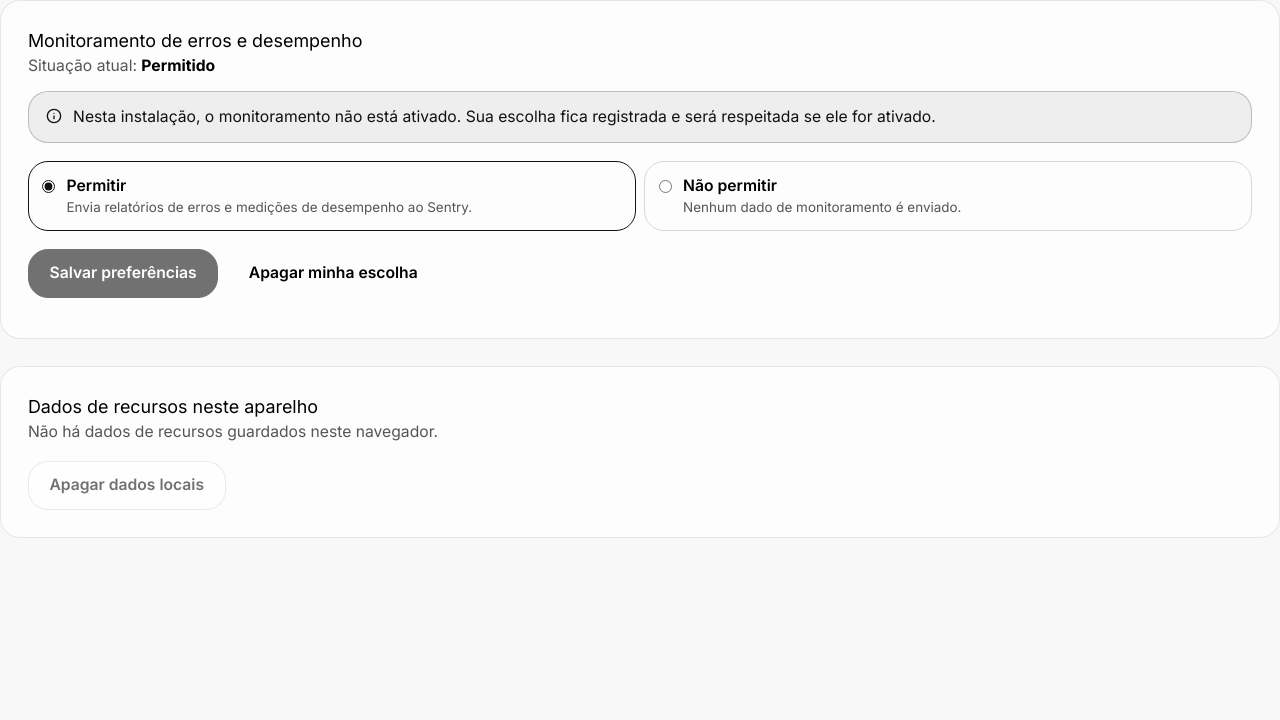
preferências de cookie (controles reais) › apagar a escolha remove o registro (o aviso volta)
Click the button "Apagar minha escolha" at (333, 273), box [227,249,439,298]
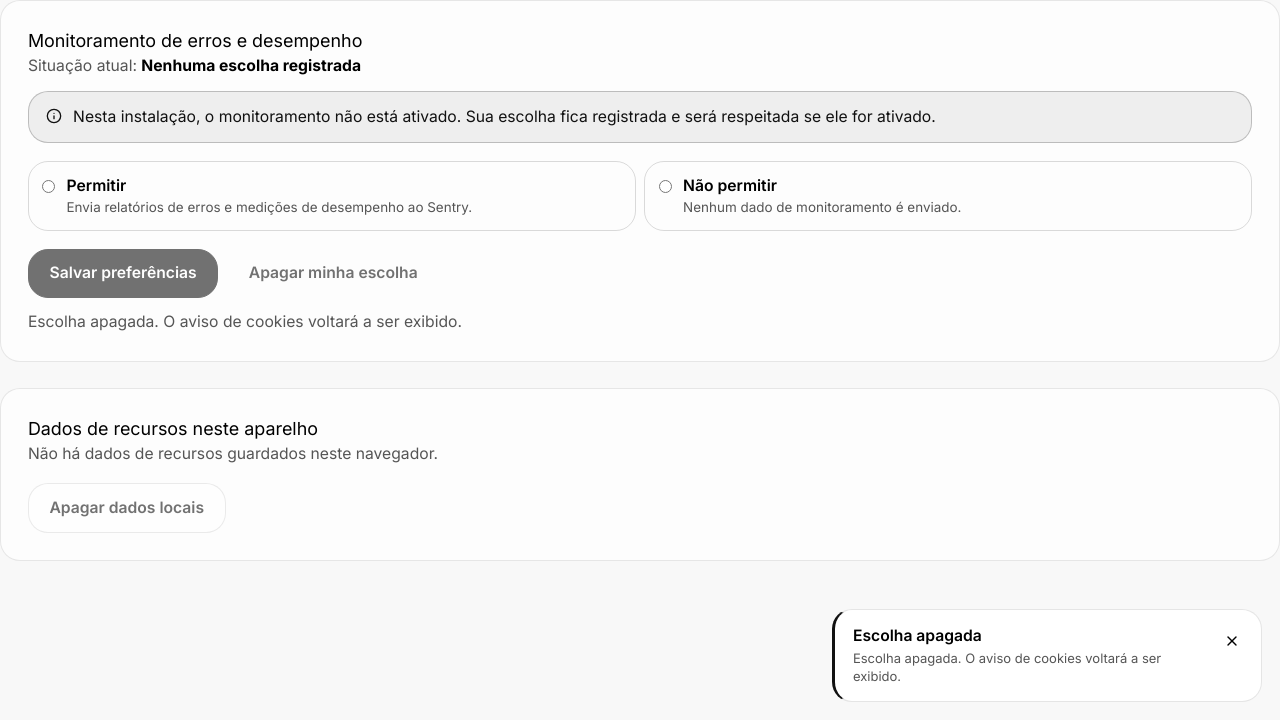
Result: the text "Nenhuma escolha registrada" is shown at [141,56,361,75]
